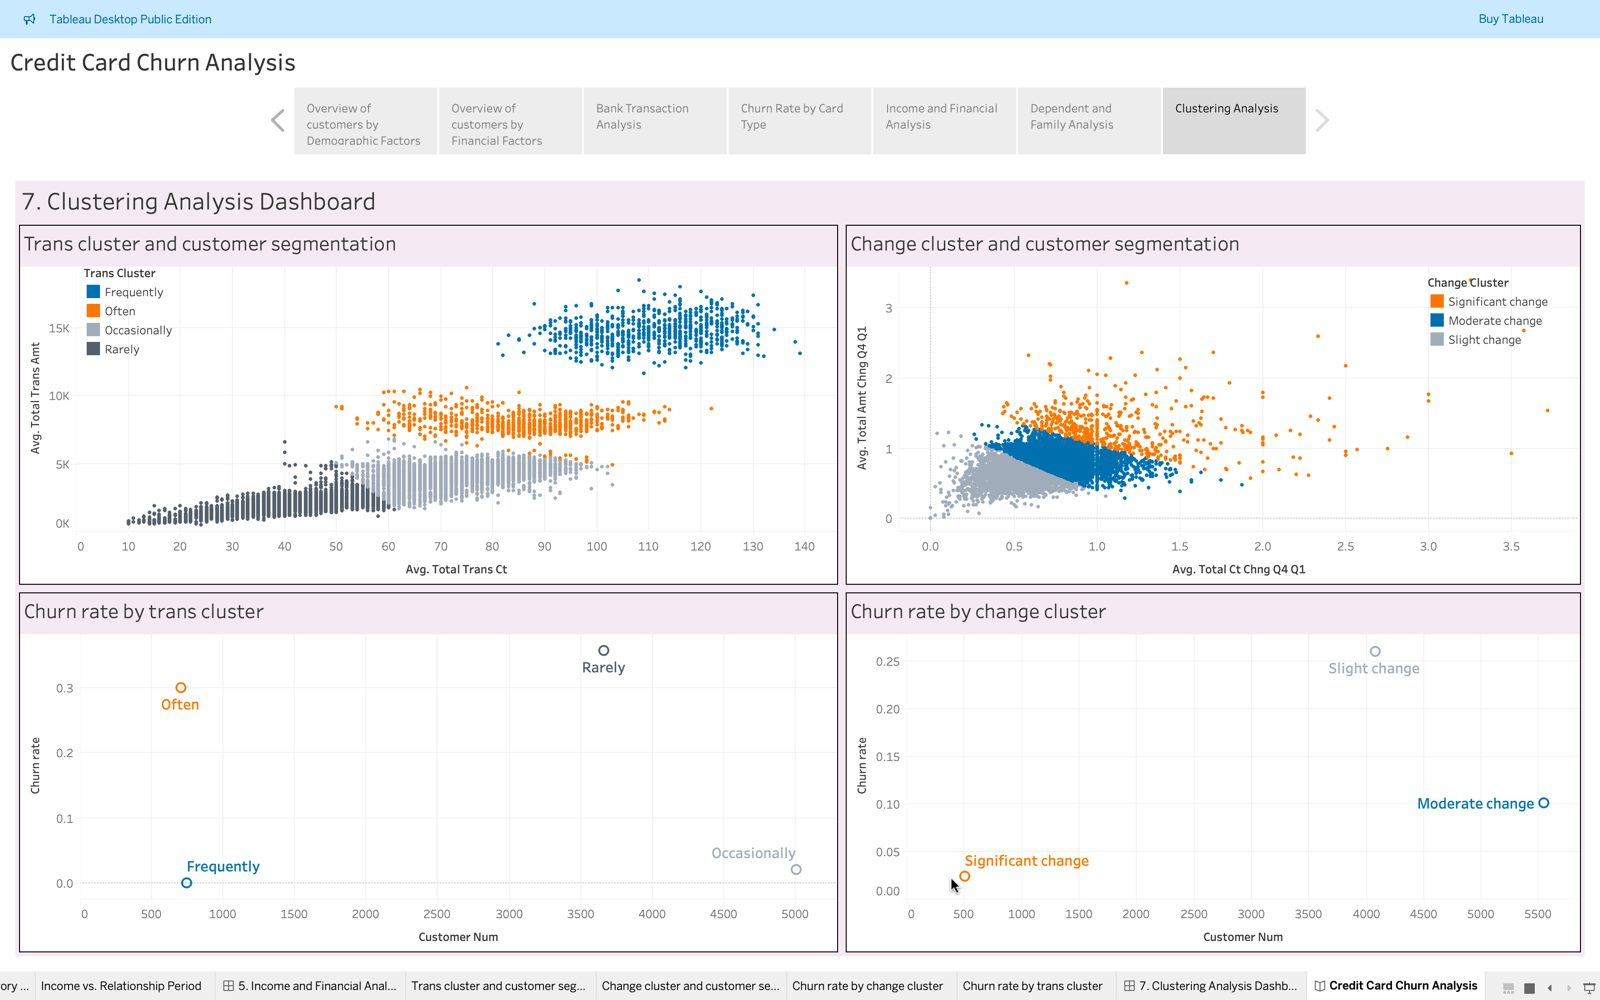

This screenshot's page, from the dashboard's own definition file:
{"tool":"tableau","page":{"name":"7. Clustering Analysis Dashboard","canvas":[1000,1000],"units":"permille","ordinal":6},"visuals":[{"type":"title","box":[5.5,8.7,989.1,45.8]},{"type":"worksheet","title":"Trans cluster and customer segmentation","mark":"Automatic","rows":["Total_Trans_Amt"],"cols":["Total_Trans_Ct"],"box":[5.5,54.5,458.1,468.4]},{"type":"worksheet","title":"Change cluster and customer segmentation","mark":"Automatic","rows":["Total_Amt_Chng_Q4_Q1"],"cols":["Total_Ct_Chng_Q4_Q1"],"box":[463.6,54.5,531,468.4]},{"type":"legend","title":"Trans cluster and customer segmentation","param":"[federated.0rdieu80g1d7rm18i24471ab21uw].[Clientnum (clusters)]","box":[48.3,115.5,140.2,122]},{"type":"worksheet","title":"Churn rate by trans cluster","mark":"Automatic","rows":["Calculation_5717460502736887826"],"cols":["Calculation_5506706113541271553"],"box":[5.5,522.8,458.1,468.5]},{"type":"worksheet","title":"Churn rate by change cluster","mark":"Automatic","rows":["Calculation_5717460502736887826"],"cols":["Calculation_5506706113541271553"],"box":[463.6,522.9,531,468.4]}]}

Visuals, with their boxes on the dashboard's canvas, which has no fixed pixel size, in thousandths of its width and height (x1, y1, x2, y2). These are canvas units, not pixel positions in the 1600x1000 screenshot, which may show the page scaled, cropped or inside an application window:
title: left=6, top=9, right=995, bottom=54
"Trans cluster and customer segmentation" worksheet: left=6, top=54, right=464, bottom=523
"Change cluster and customer segmentation" worksheet: left=464, top=54, right=995, bottom=523
"Trans cluster and customer segmentation" legend: left=48, top=116, right=188, bottom=238
"Churn rate by trans cluster" worksheet: left=6, top=523, right=464, bottom=991
"Churn rate by change cluster" worksheet: left=464, top=523, right=995, bottom=991
